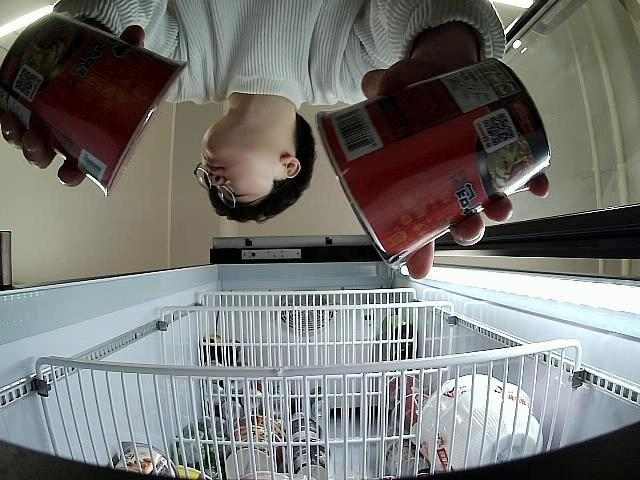02_shinRamen_S: (315, 59, 550, 270), (0, 14, 189, 198)
